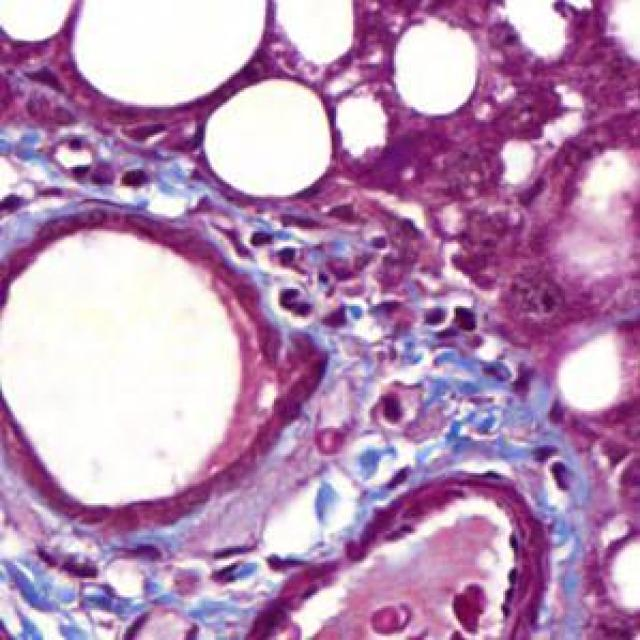steatosis: (199, 80, 343, 204)
